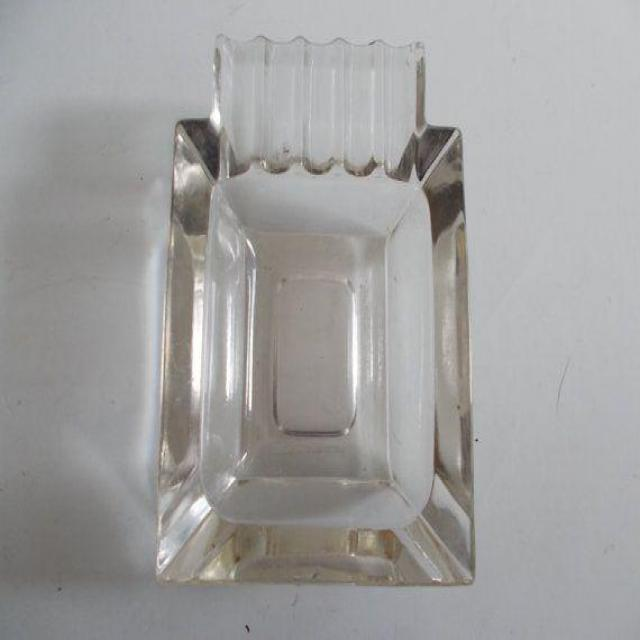non-organic waste: (202, 28, 430, 515)
